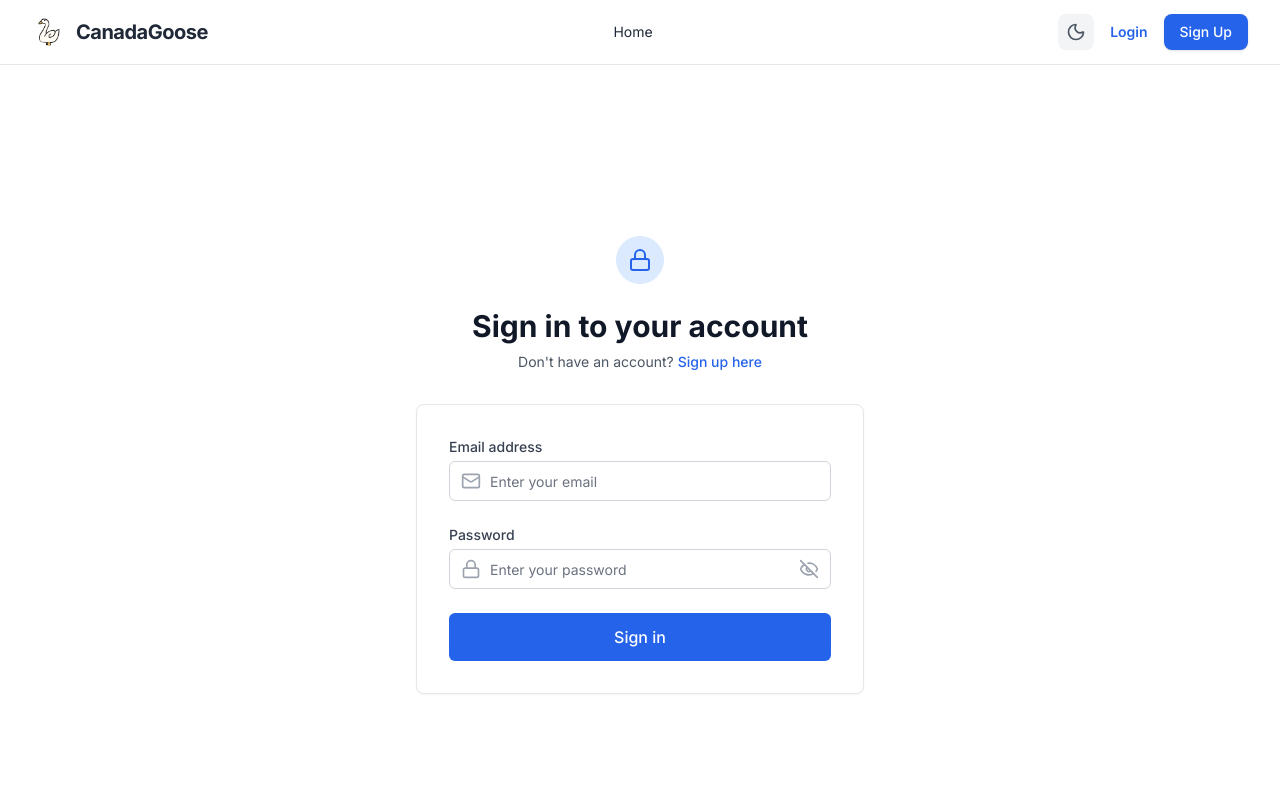
Test: Login Page › shows error on invalid credentials
In the field with test id "email-input": (640, 481) [449,461,831,501], type "fakeuser@example.com"
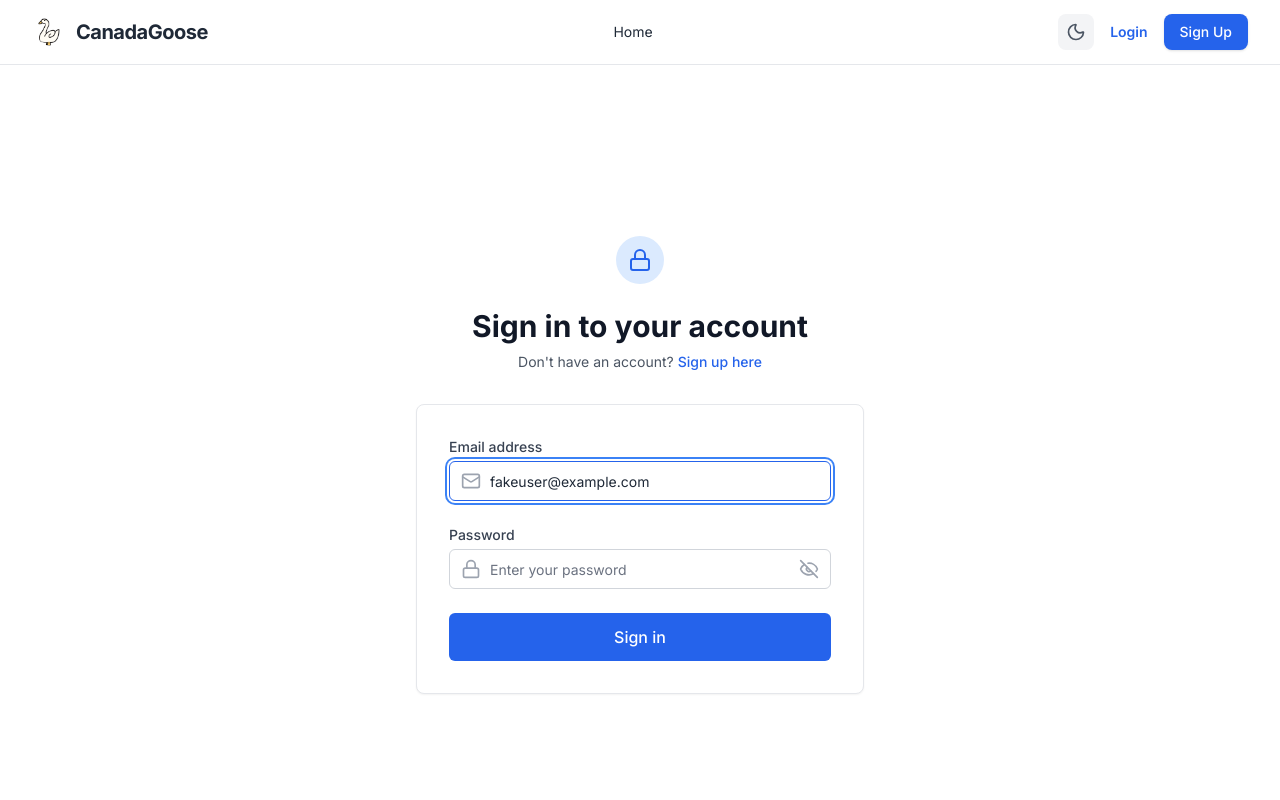
In the password field with test id "password-input": (640, 569) [449,549,831,589], type "wrongpassword"
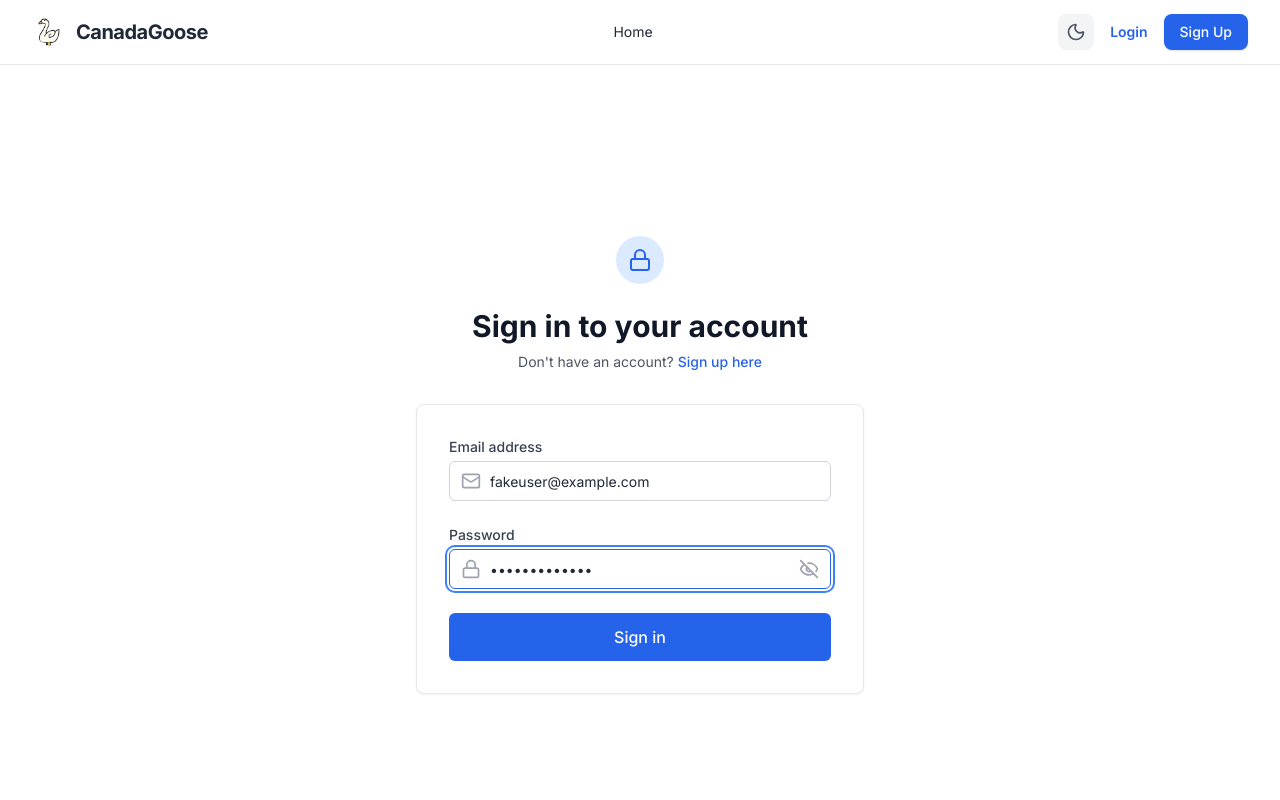
Click the button with test id "submit-button": (640, 637) [449,613,831,661]
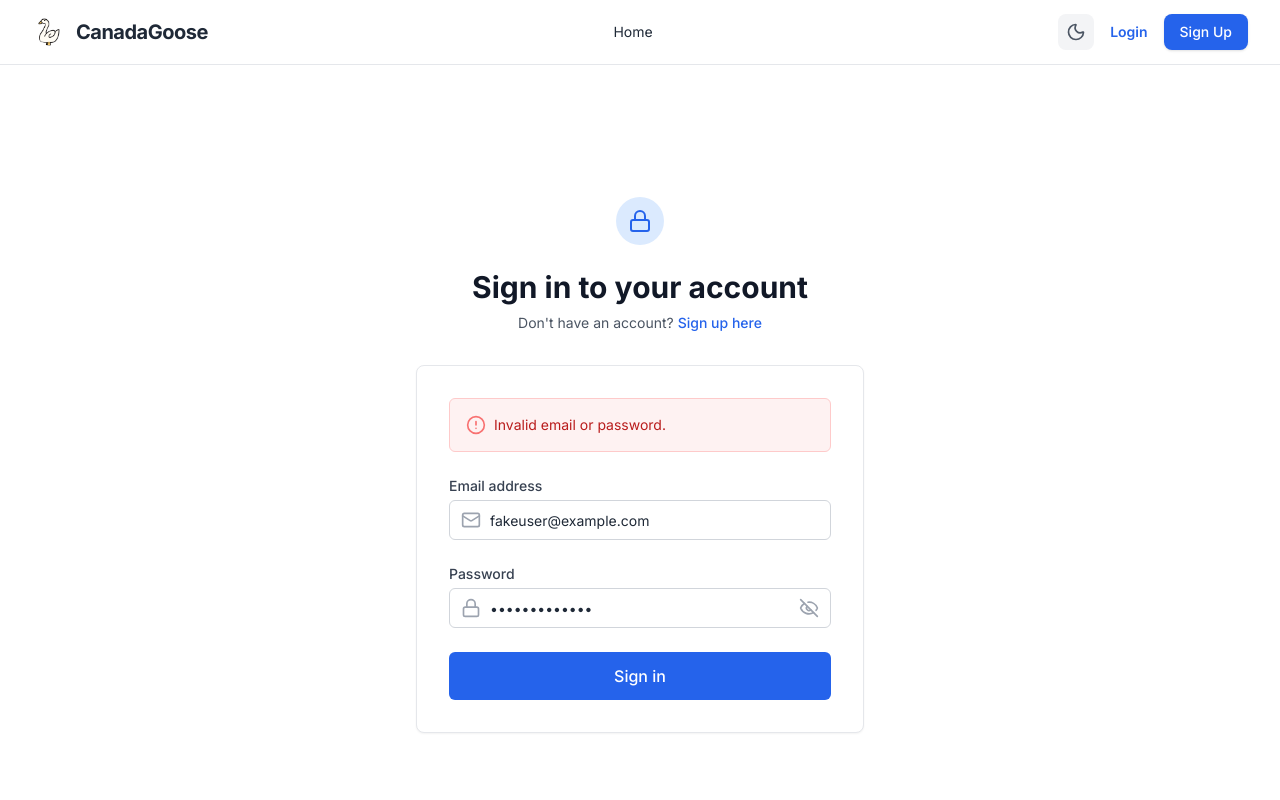
Now the element with test id "general-error" is shown, box [449,398,831,452]
Now the text with test id "general-error" shows "Invalid email or password", box [494,416,666,433]
